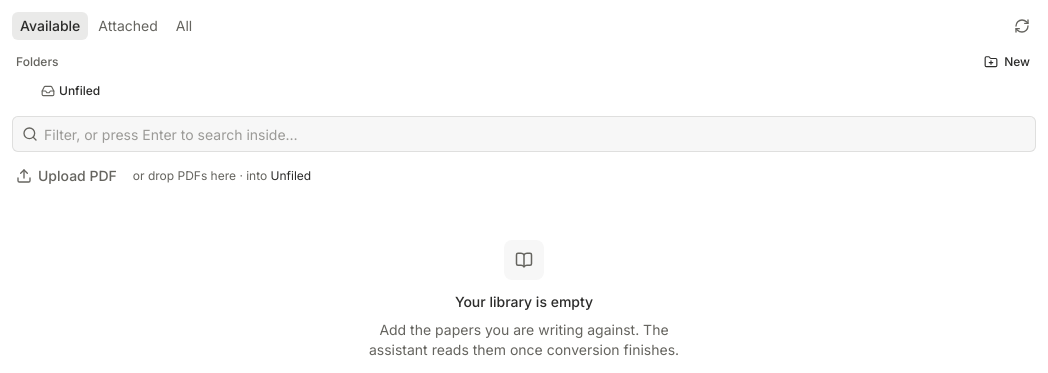
Test case: LibraryPanel › continues a scoped search past the first twenty-five resources
Type "oldest" into the search field labelled "Filter, or press Enter to search inside…" at coordinates (524, 134), box [12, 116, 1036, 152]
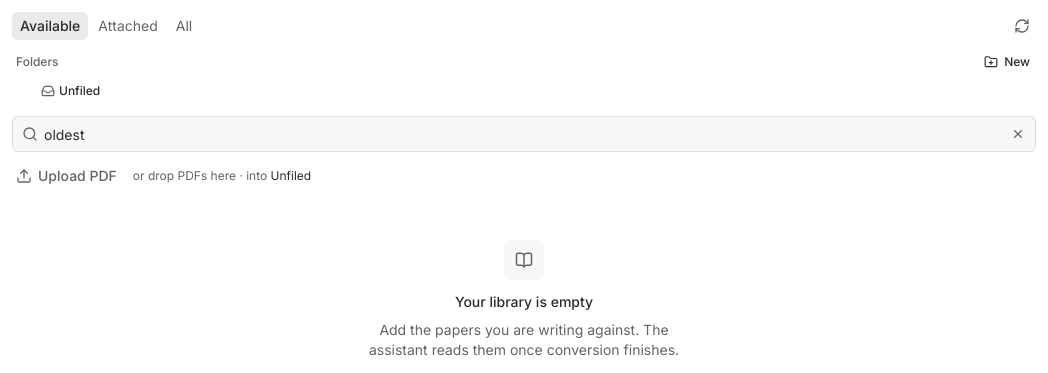
Submit the form named "Search", box [12, 116, 1036, 152]
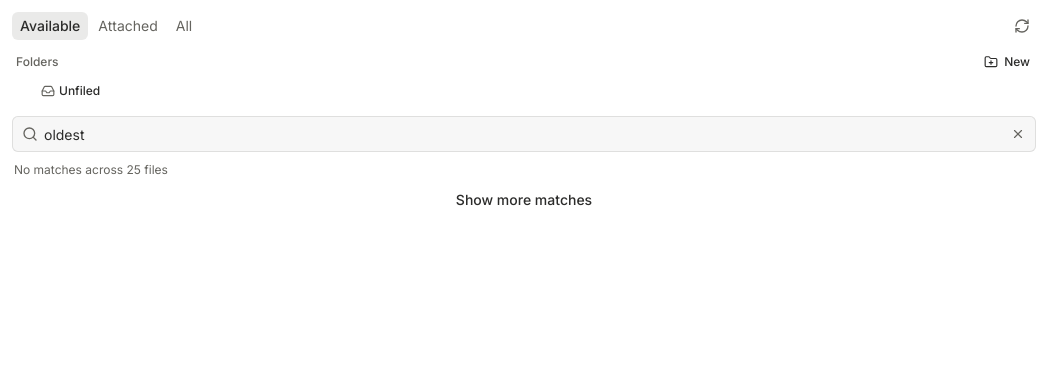
Click the button "Show more matches" at coordinates (524, 200), box [12, 186, 1036, 214]
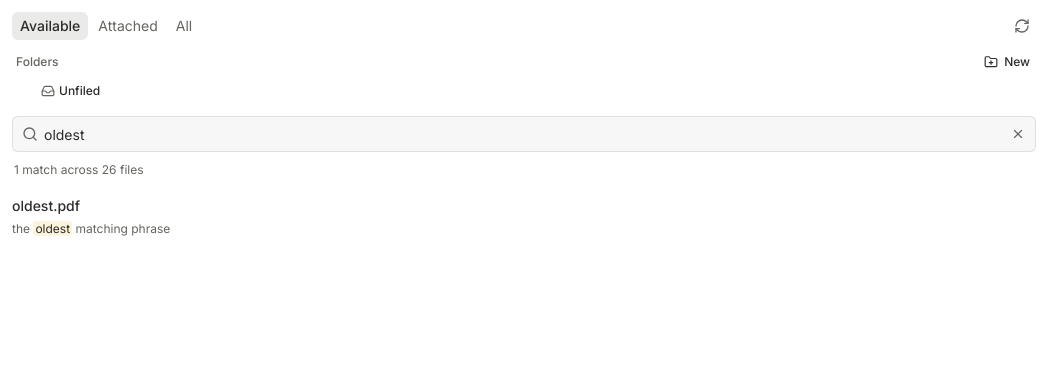
Expected: the button "oldest.pdf the oldest matching phrase" is shown, [12, 196, 1036, 239]
